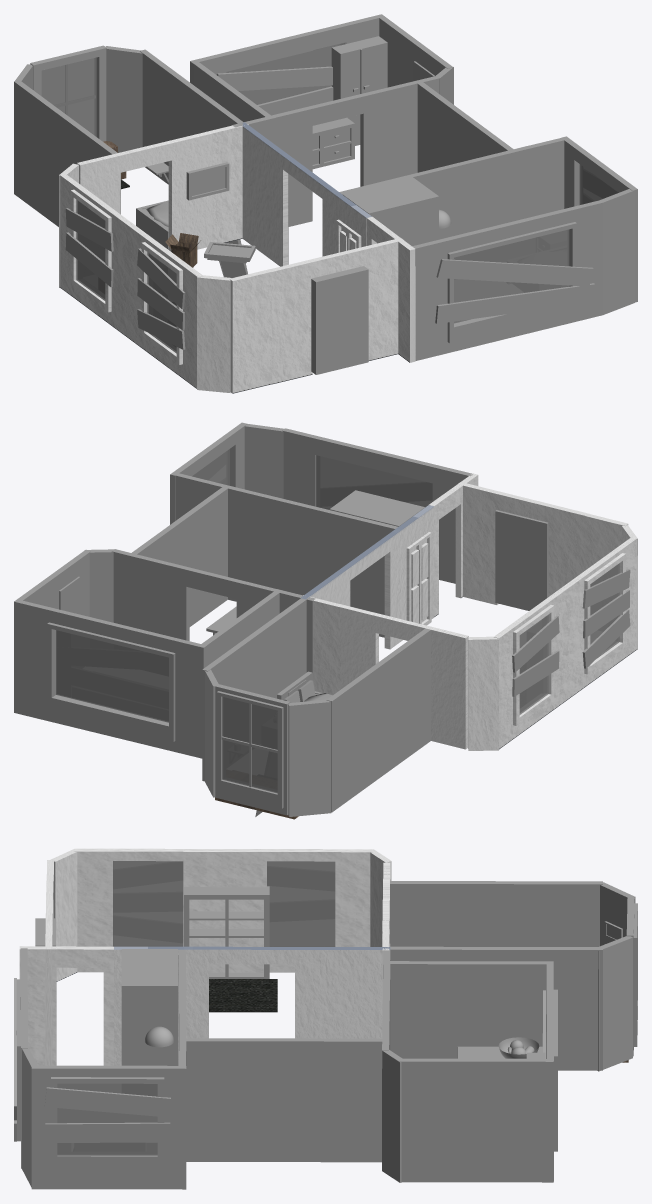
The model's file is 3DModelUntexturedMayaforUnity.fbx.
3 views of the same model, one above another, from view 1: azimuth 30°, elevation 25°; view 2: azimuth 150°, elevation 25°; view 3: azimuth 270°, elevation 25° (orthographic). The views are drawn at different scales.
Parts seen in each view (by area): view 1: wall26, wall, wall2, wall1, wall19, wall5, wall23, wall4, pCube70, wall6, wall8, wall21 (+35 smaller); view 2: wall30, wall23, wall5, wall, wall2, wall4, pCube11, wall1, wall26, wall6, wall21, wall11 (+28 smaller); view 3: wall21, wall16, wall, wall5, wall14, wall1, wall25, wall6, pCube4, pCube2, pCube1, wall22 (+23 smaller).
Boxes of the visible parts, x1,y1,x2,y2 form: wall26: (412, 200, 603, 360); wall: (60, 174, 203, 388); wall2: (269, 238, 403, 384); wall1: (242, 122, 371, 266); wall19: (270, 84, 403, 226); wall5: (14, 80, 120, 226); wall23: (339, 147, 526, 239); wall4: (77, 132, 212, 251); pCube70: (311, 266, 368, 374); wall6: (140, 49, 243, 184); wall8: (229, 269, 271, 393); wall21: (417, 82, 513, 172); wall30: (15, 600, 206, 758); wall23: (209, 482, 398, 637); wall5: (326, 628, 430, 812); wall: (494, 537, 637, 749); wall2: (458, 482, 589, 604); wall4: (336, 604, 468, 749); pCube11: (56, 630, 168, 722); wall1: (300, 505, 434, 649); wall26: (282, 428, 472, 583); wall6: (202, 598, 306, 781); wall21: (132, 487, 227, 626); wall11: (288, 699, 331, 816); wall21: (186, 1038, 382, 1162); wall16: (399, 1058, 553, 1182); wall: (74, 848, 372, 972); wall5: (389, 881, 602, 946); wall14: (390, 961, 546, 1058); wall1: (114, 946, 390, 1065); wall25: (31, 1065, 186, 1189); wall6: (390, 946, 602, 1070); pCube4: (121, 949, 177, 1065); pCube2: (113, 861, 183, 946); pCube1: (267, 861, 335, 946); wall22: (19, 946, 113, 1065).
Size of the model in its own units: 25.69 by 11.7 by 30.14.
